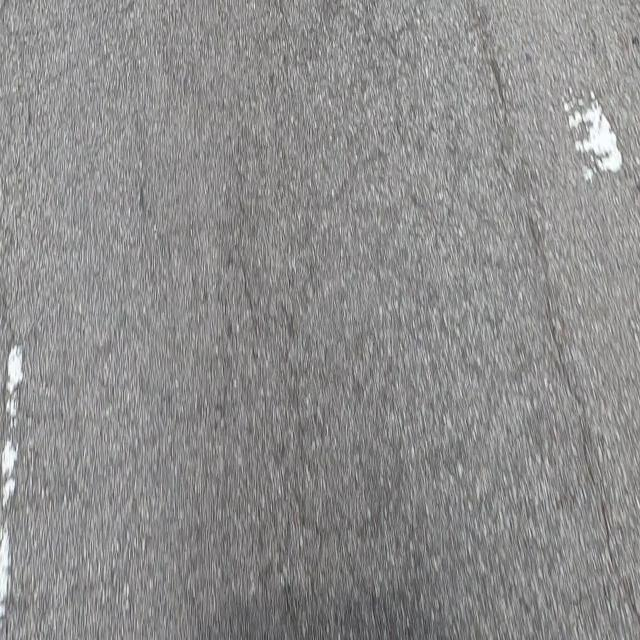Retak-Memanjang: (522, 211, 640, 629)
